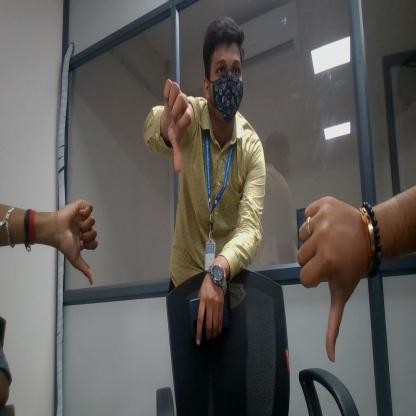Thumbs Down: (292, 177, 353, 352), (58, 203, 102, 289), (163, 79, 190, 171)
